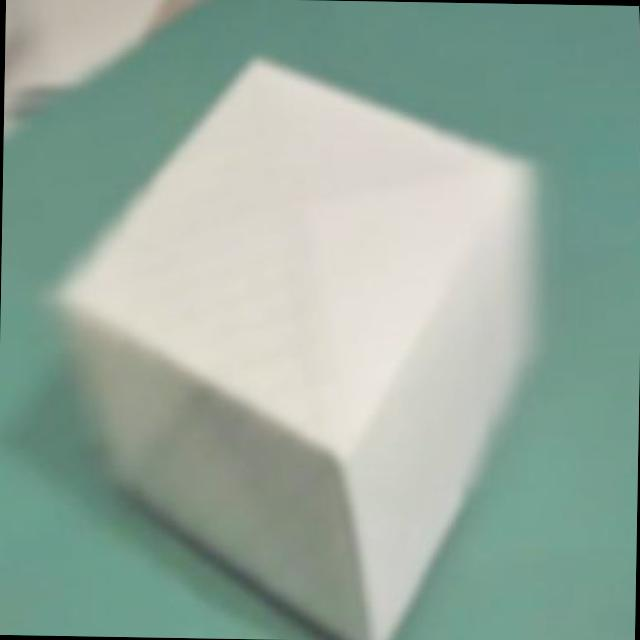box: (28, 39, 575, 640)
